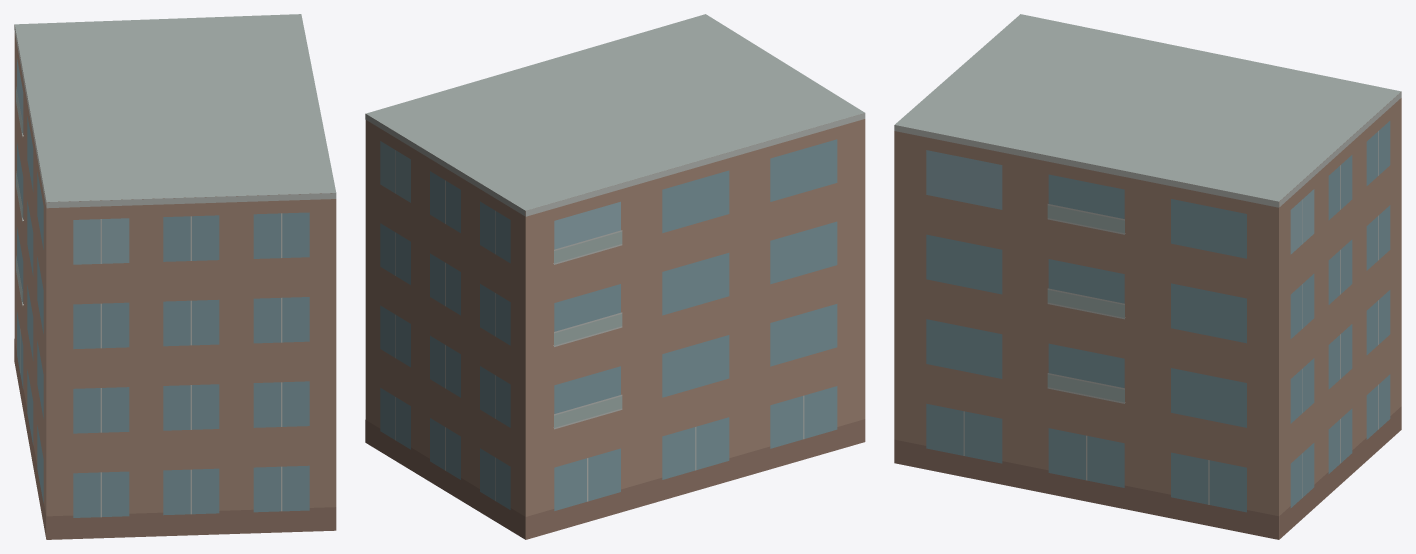
The model's file is survey-upis-32484399.glb.
3 renders of one model, left to right at view 1: azimuth 30°, elevation 25°; view 2: azimuth 150°, elevation 25°; view 3: azimuth 270°, elevation 25°, orthographic. The views are drawn at different scales.
Parts seen in each view (by area): view 1: survey-upis-32484399.tmp; view 2: survey-upis-32484399.tmp; view 3: survey-upis-32484399.tmp.
Boxes of the visible parts, x1,y1,x2,y2 form: survey-upis-32484399.tmp: [14, 14, 336, 539]; survey-upis-32484399.tmp: [365, 14, 865, 539]; survey-upis-32484399.tmp: [894, 14, 1401, 539].
Size of the model in its own units: 16.19 by 13.6 by 18.49.
